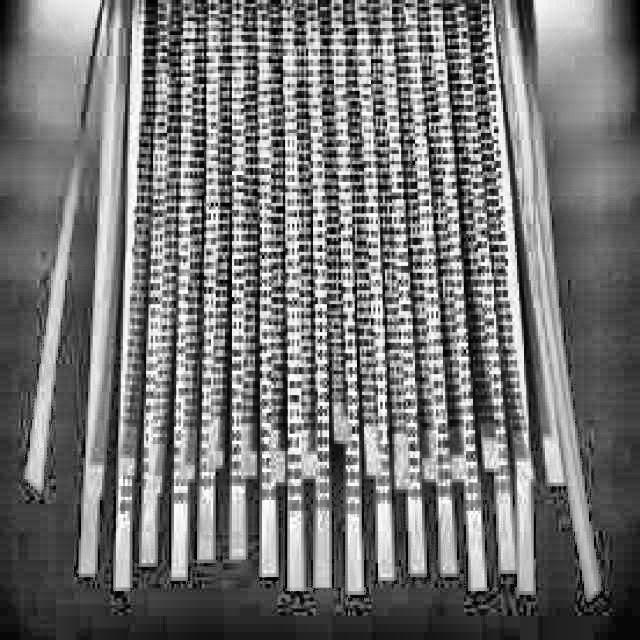Paper: (23, 0, 598, 595)
